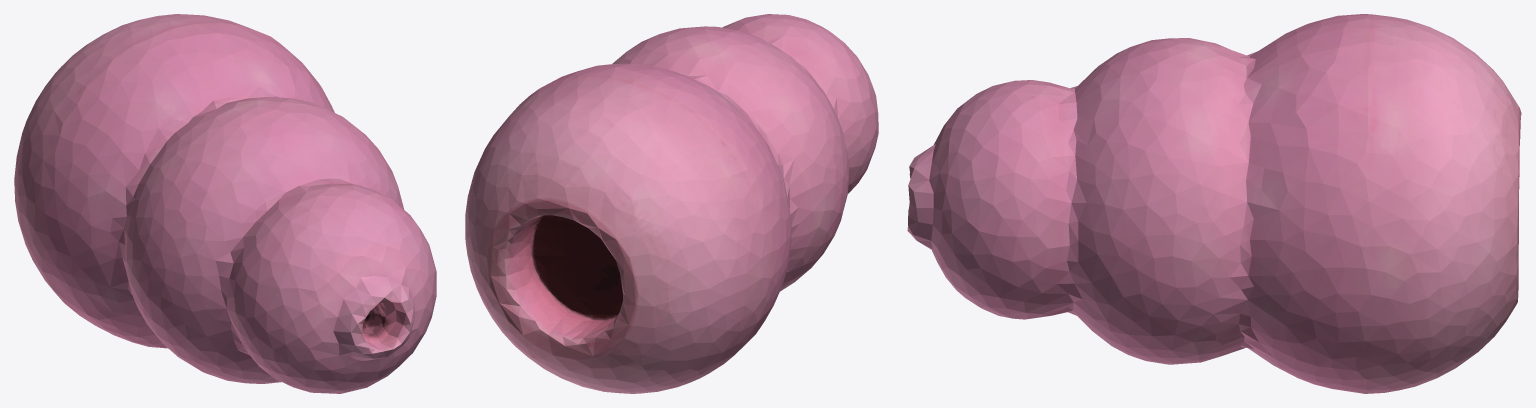
3 renders of one model, left to right at view 1: azimuth 30°, elevation 25°; view 2: azimuth 150°, elevation 25°; view 3: azimuth 270°, elevation 25°, orthographic. The views are drawn at different scales.
Size of the model in its own units: 0.0443 by 0.0443 by 0.0719.
Materials: 1 (1 with a texture image).
